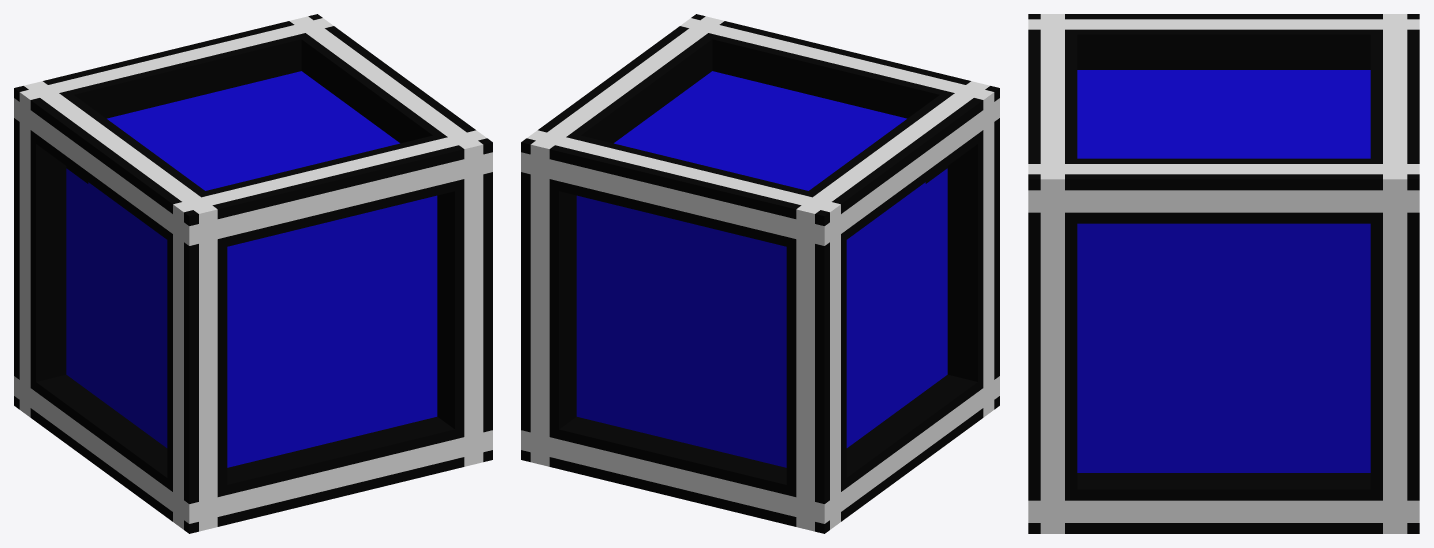
The model's file is blue_powerup.fbx.
3 views of the same model, side by side, from view 1: azimuth 30°, elevation 25°; view 2: azimuth 150°, elevation 25°; view 3: azimuth 270°, elevation 25° (orthographic). The views are drawn at different scales.
Parts seen in each view (by area): view 1: Cube; view 2: Cube; view 3: Cube.
Part boxes in pixels (bbox=[...]): Cube: bbox=[14, 14, 492, 533]; Cube: bbox=[521, 14, 999, 533]; Cube: bbox=[1028, 14, 1419, 533].
Size of the model in its own units: 200 by 200 by 200.
